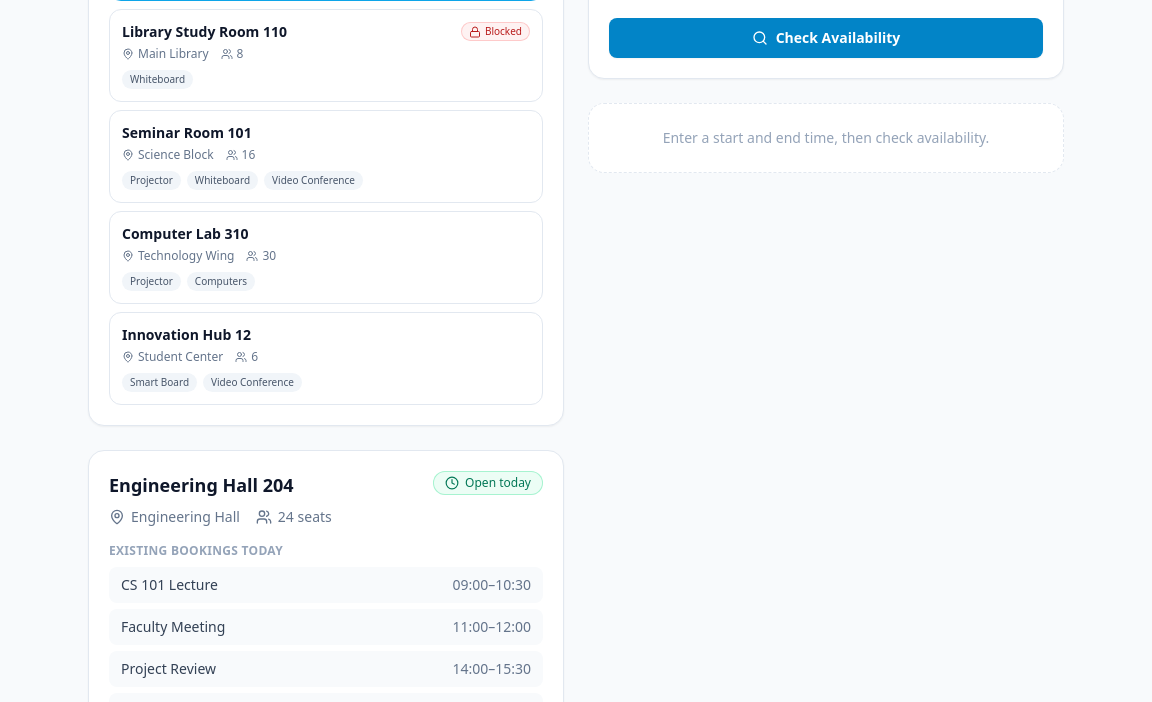
UI integration (fixed clock 09:00) › U6 F5: a room hidden by a filter does not silently come back as the selection when the filter is relaxed
This screenshot has width=1152, height=702.
(page scrolled)
Click the button "Innovation Hub 12": (186, 334) [109,312,543,405]
(page scrolled)
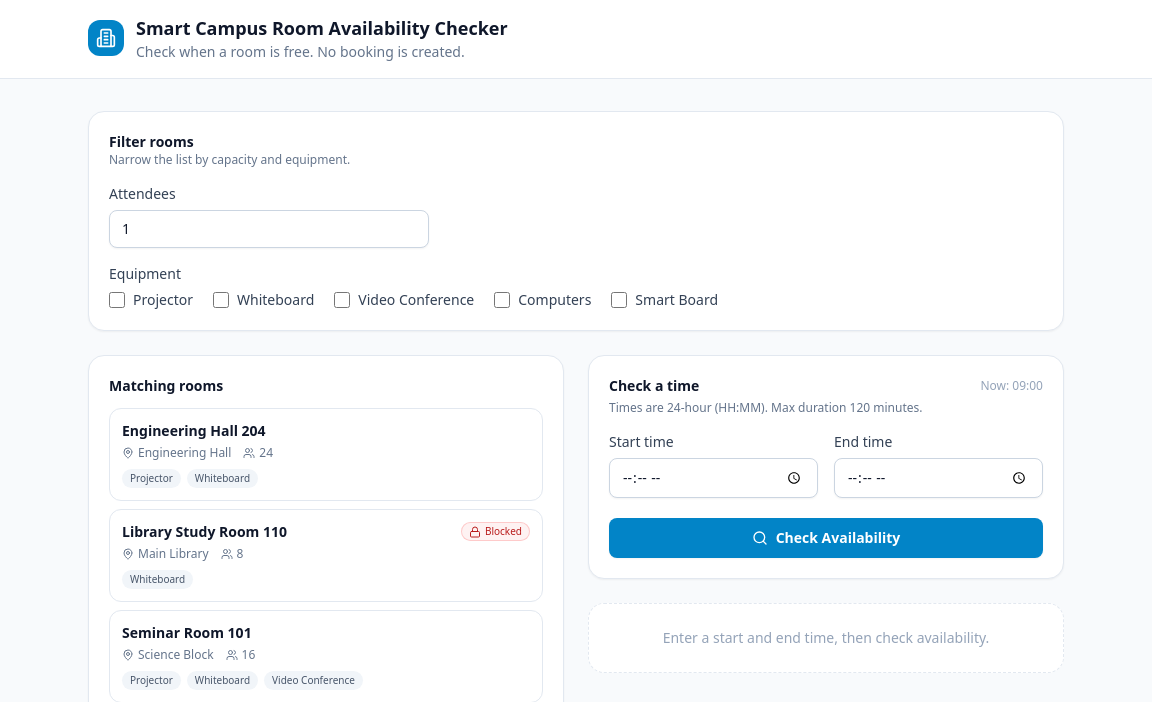
Replace the text in the number field labelled "Attendees" with "10": (269, 229) [109,210,429,248]
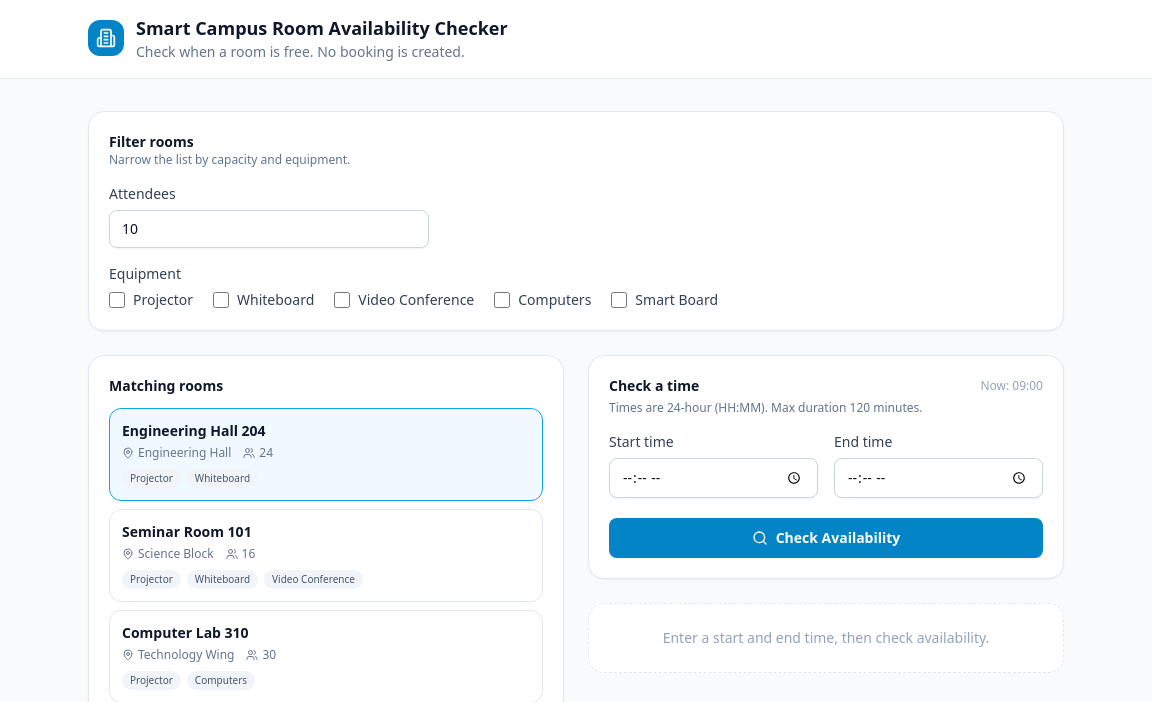
Replace the text in the number field labelled "Attendees" with "1": (269, 229) [109,210,429,248]
(page scrolled)
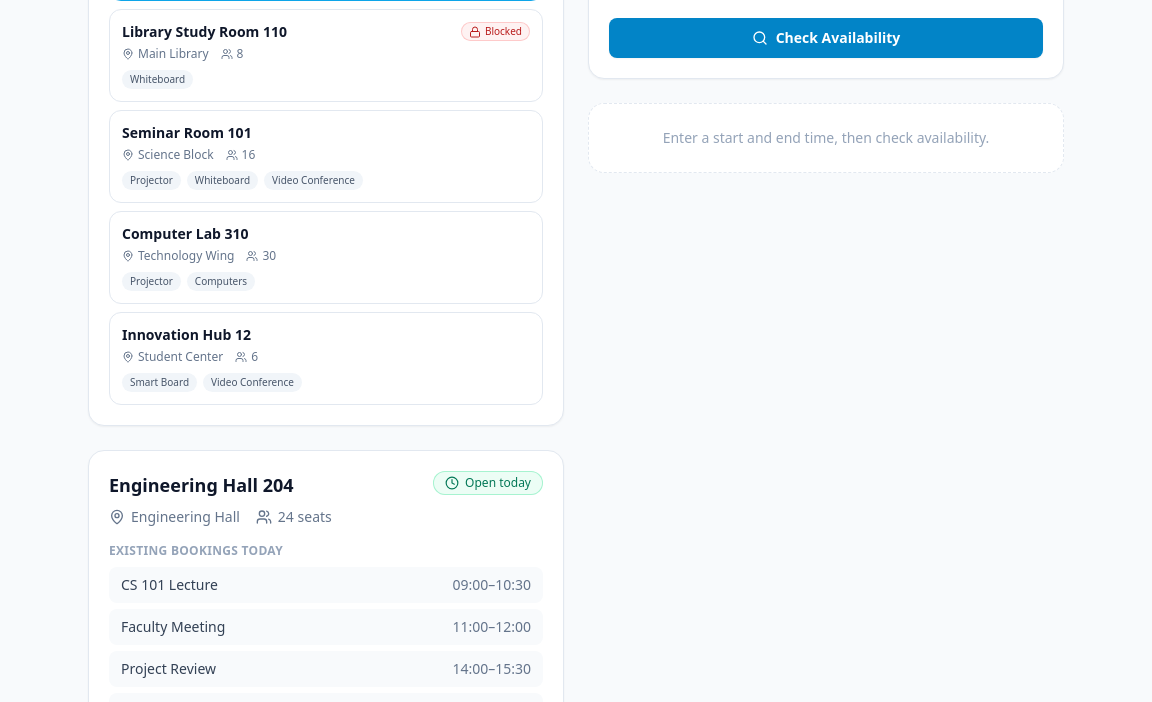
Expected: the button "Innovation Hub 12" is not pressed, [109,312,543,405]
